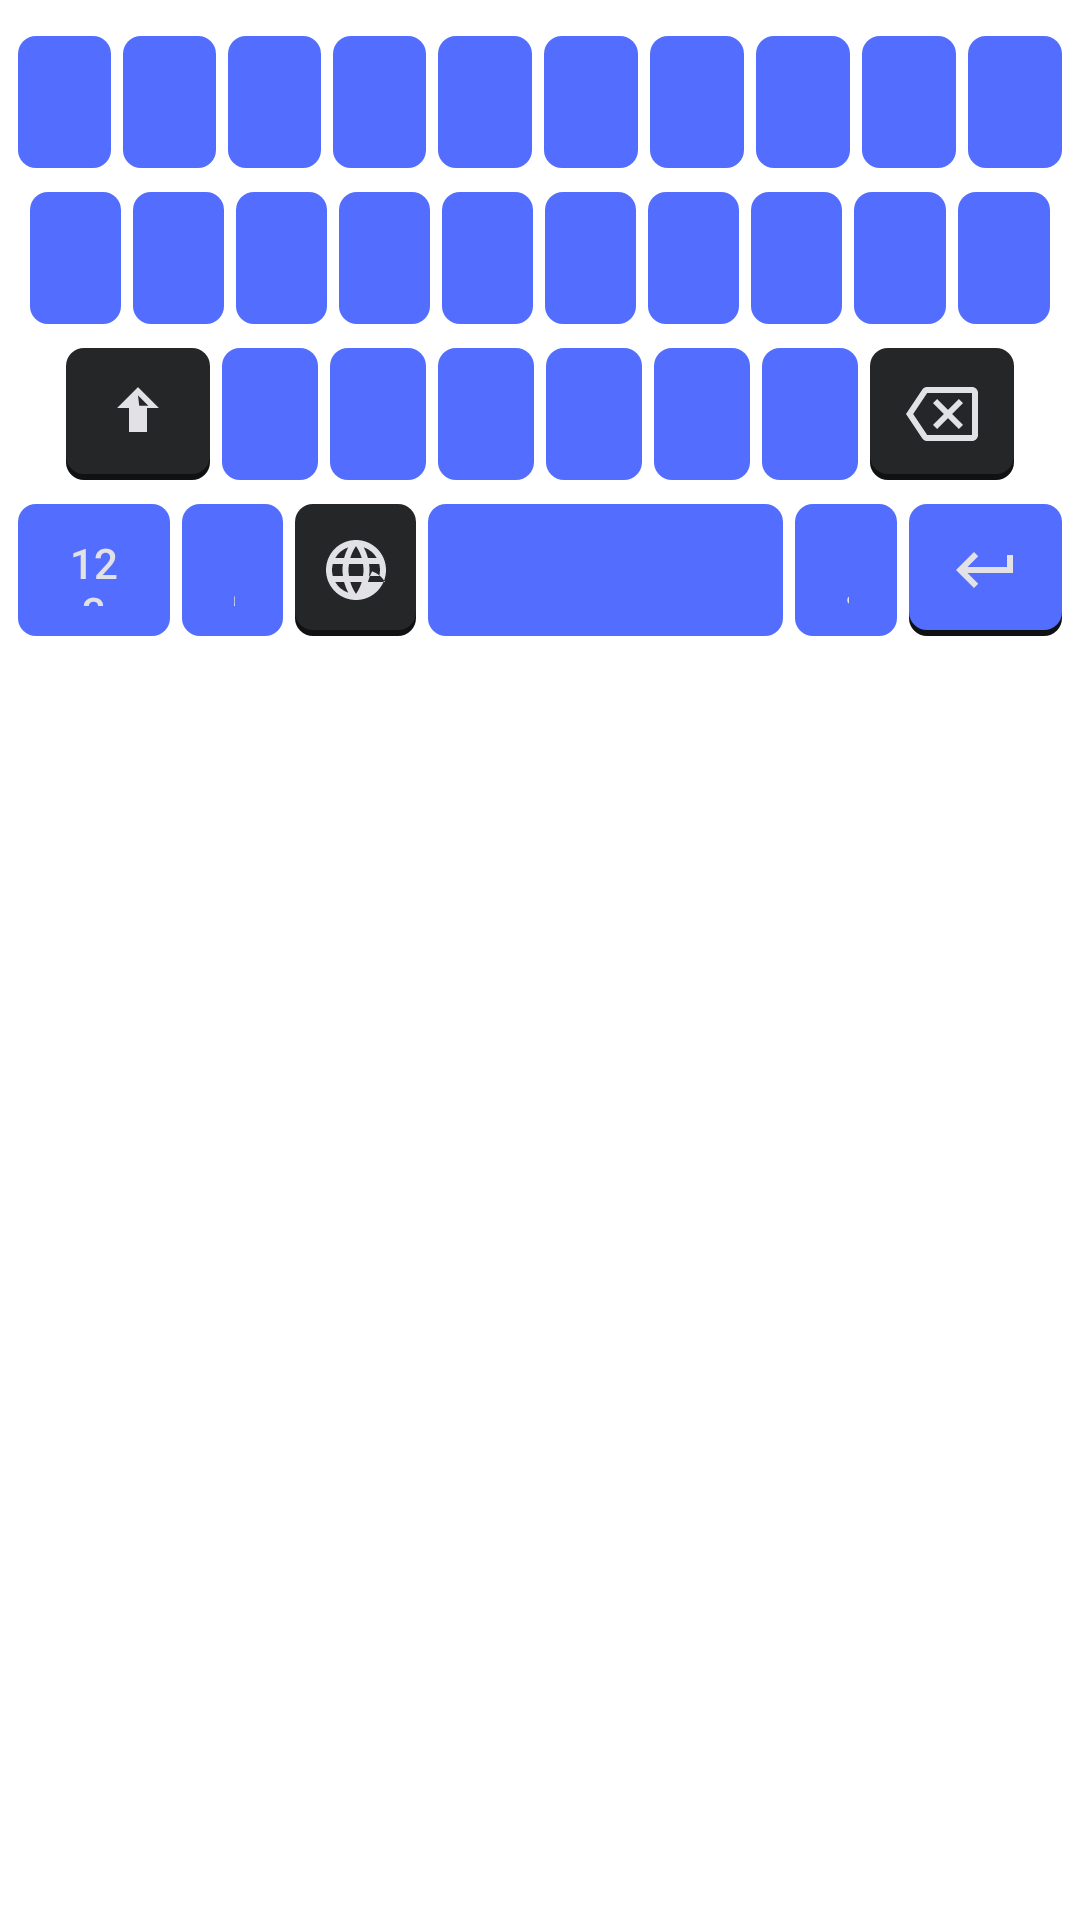

Where to tap for icons on this 1080 × 1920 app screen, as (x,y):
enter: (985,570)
globe: (355,570)
shift: (138,414)
